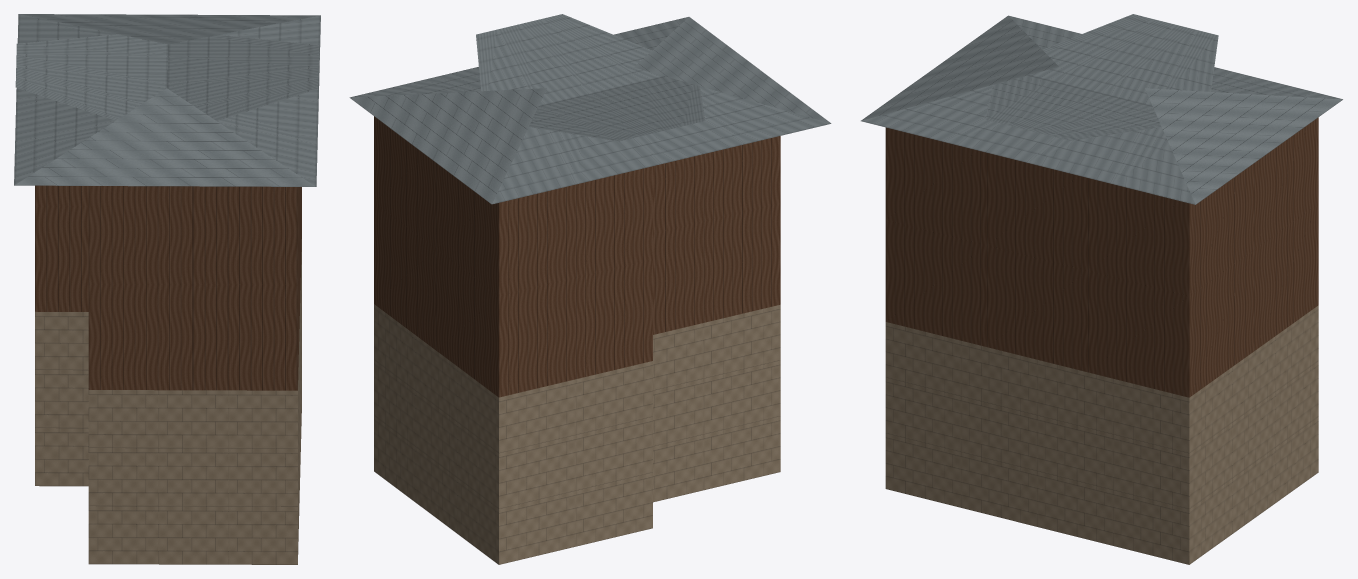
The model's file is bld_c19_30_370.gltf.
3 renders of one model, left to right at view 1: azimuth 30°, elevation 25°; view 2: azimuth 150°, elevation 25°; view 3: azimuth 270°, elevation 25°, orthographic. The views are drawn at different scales.
Parts seen in each view (by area): view 1: bld_c19_30_370; view 2: bld_c19_30_370; view 3: bld_c19_30_370.
Boxes of the visible parts, x1,y1,x2,y2 form: bld_c19_30_370: (14, 14, 320, 564); bld_c19_30_370: (349, 14, 831, 564); bld_c19_30_370: (861, 14, 1342, 564).
Size of the model in its own units: 12.39 by 12.3 by 13.35.
3 materials, 3 textured.
